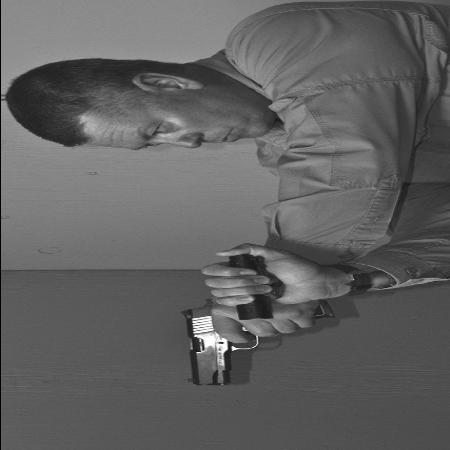Pistol: (168, 286, 340, 386)
